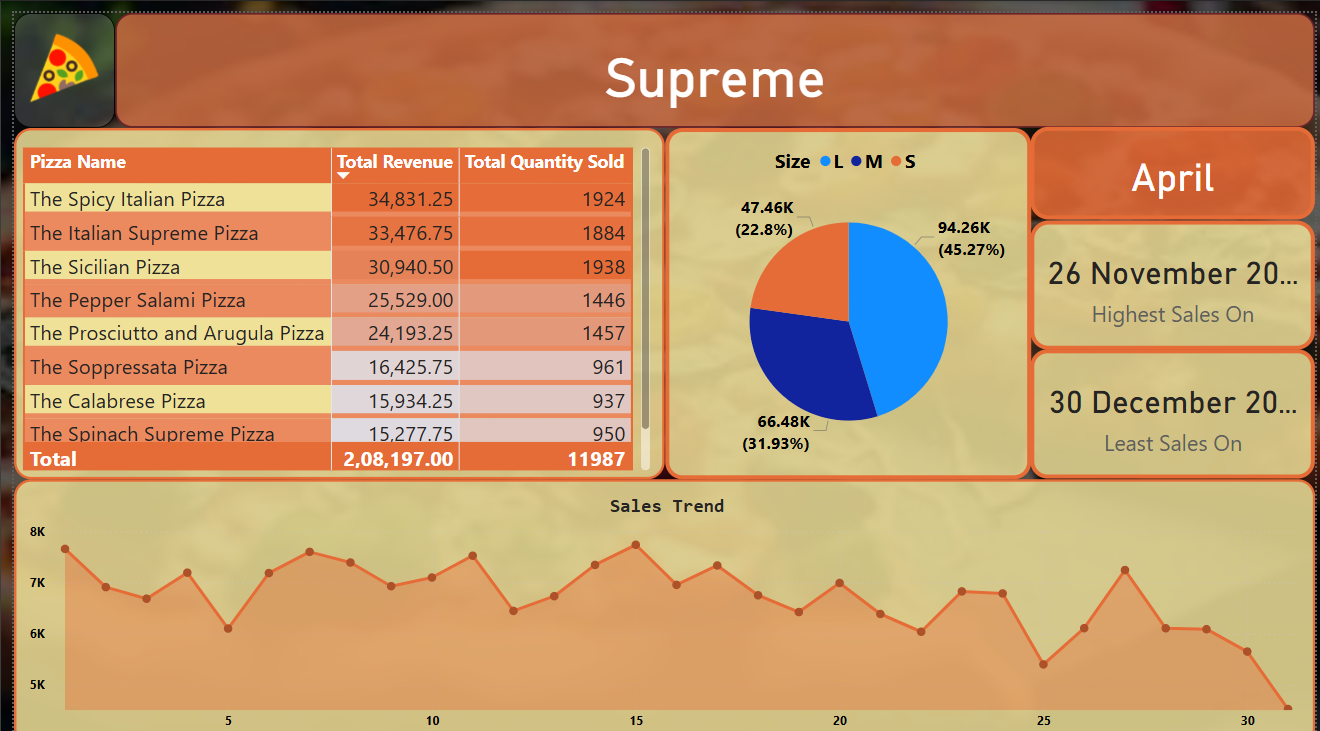

Layout of this report page (visuals, bound fields, positions):
{"tool":"powerbi","page":{"name":"Category Details","canvas":[1280,720],"ordinal":1},"visuals":[{"type":"card","fields":{"Values":["Max(pizza_types.category)"]},"box":[99.6,0,1180.2,112.5],"z":0},{"type":"lineChart","title":"Sales Trend","fields":{"Y":["order_details.Total_Sales"],"Category":["orders.date.Variation.Date Hierarchy.Month","orders.date.Variation.Date Hierarchy.Day"]},"box":[0,459,1280,261.2],"z":1000},{"type":"actionButton","box":[0,0,99.6,112.5],"z":2000},{"type":"tableEx","fields":{"Values":["pizza_types.name","order_details.Total_Sales","Sum(order_details.quantity)"]},"box":[0,112.9,640,345.7],"z":3000},{"type":"pieChart","fields":{"Y":["order_details.Total_Sales"],"Category":["pizzas.size"]},"box":[640,112.9,360,345.7],"z":4000},{"type":"card","title":"Highest Sales","fields":{"Values":["Min(orders.date)"]},"box":[1000,203.8,280,127.5],"z":5000},{"type":"card","fields":{"Values":["Min(orders.date)"]},"box":[1000,331.2,280,127.5],"z":6000},{"type":"card","fields":{"Values":["Min(orders.date.Variation.Date Hierarchy.Month)"]},"box":[1000,112.5,280,91.2],"z":6001}]}

Visuals, with their boxes in screenshot pixels (x1, y1, x2, y2), scaled from the page's 1280x720 canvas onto the 1320x731 screenshot:
card - Max(pizza_types.category): [x1=103, y1=0, x2=1319, y2=114]
"Sales Trend" lineChart: [x1=0, y1=466, x2=1319, y2=730]
actionButton: [x1=0, y1=0, x2=103, y2=114]
tableEx - pizza_types.name x order_details.Total_Sales: [x1=0, y1=115, x2=660, y2=466]
pieChart - order_details.Total_Sales x pizzas.size: [x1=660, y1=115, x2=1031, y2=466]
"Highest Sales" card: [x1=1031, y1=207, x2=1319, y2=336]
card - Min(orders.date): [x1=1031, y1=336, x2=1319, y2=466]
card - Min(orders.date.Variation.Date Hierarchy.Month): [x1=1031, y1=114, x2=1319, y2=207]
